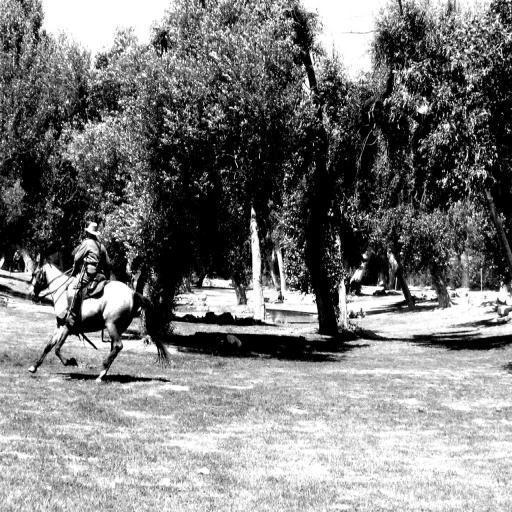horse: (26, 254, 171, 384)
